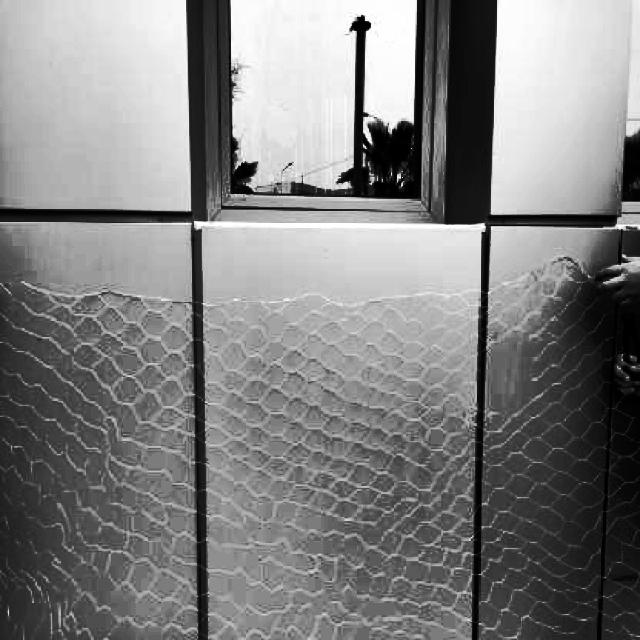anomaly-fence: (0, 254, 633, 340)
